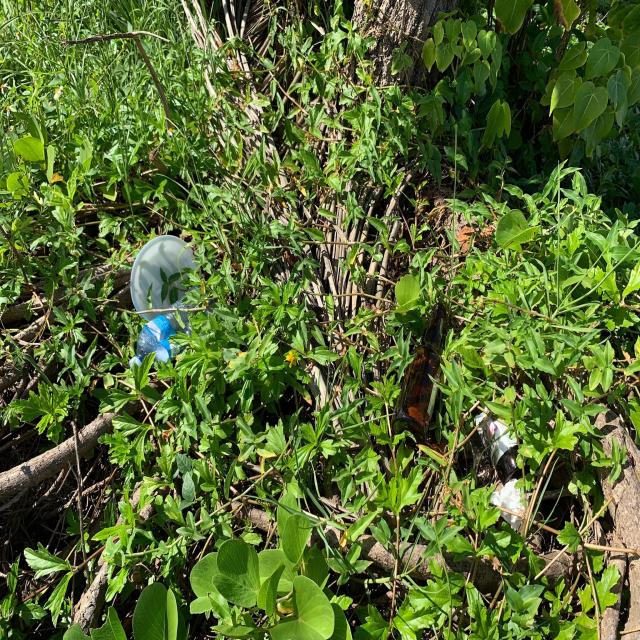litter: (123, 232, 226, 389), (470, 384, 535, 489)
